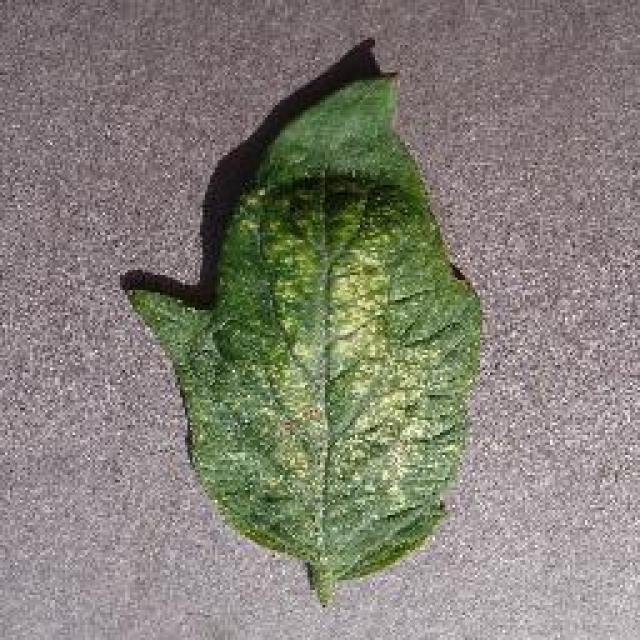Tomato___Spider_mites Two-spotted_spider_mite: (130, 80, 478, 598)
